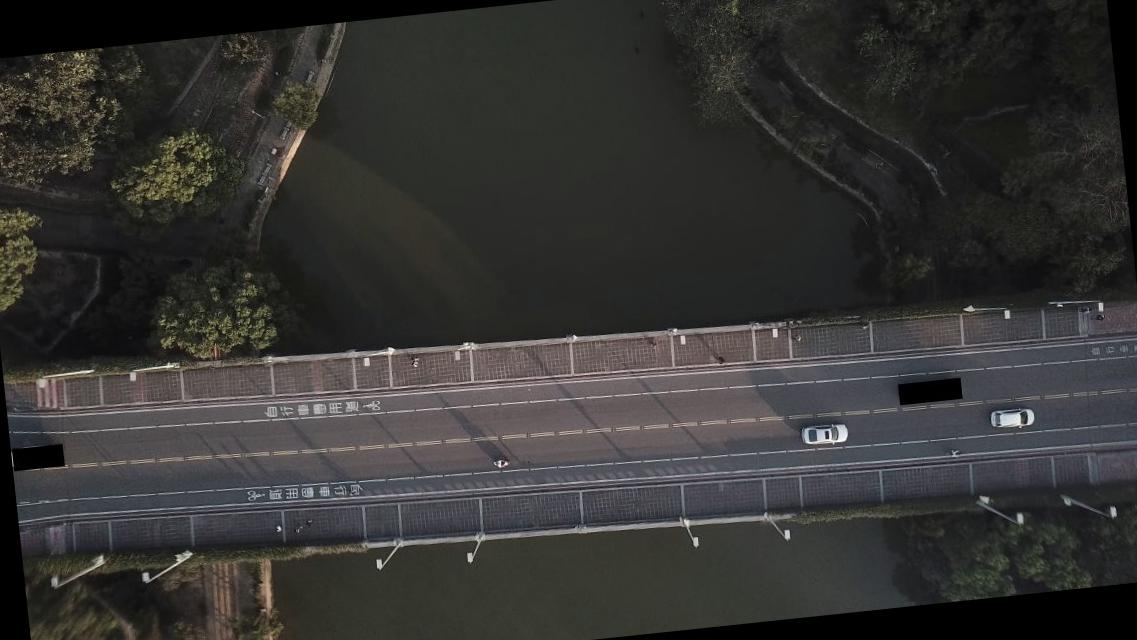vehicle: (800, 420, 848, 448), (990, 406, 1036, 431)
